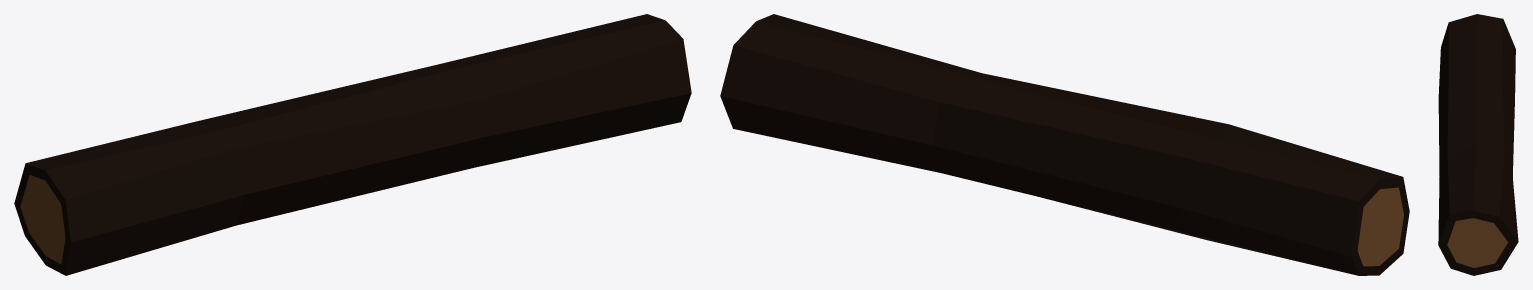
File: enchantedforest_log.glb
The picture shows the model from 3 angles, left to right: view 1: azimuth 30°, elevation 25°; view 2: azimuth 150°, elevation 25°; view 3: azimuth 270°, elevation 25°; orthographic projection. The views are drawn at different scales.
Parts seen in each view (by area): view 1: Cylinder.016.1; view 2: Cylinder.016.1; view 3: Cylinder.016.1.
Boxes of the visible parts, left/top/right/bottom form: Cylinder.016.1: left=14, top=14, right=691, bottom=275; Cylinder.016.1: left=720, top=14, right=1409, bottom=275; Cylinder.016.1: left=1438, top=14, right=1518, bottom=275.
Bounding box in the file's own units: 6.04 × 0.9488 × 1.03.
